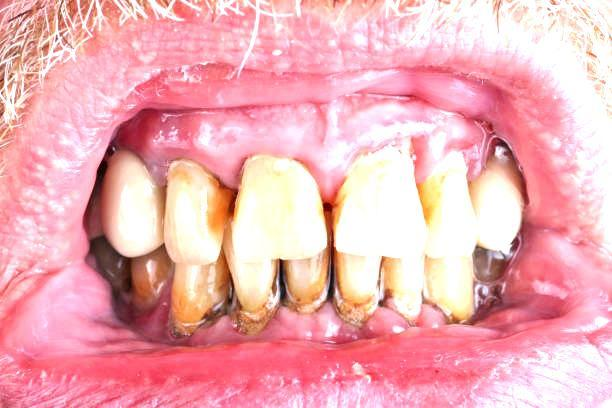Calculus: (150, 140, 227, 243), (336, 211, 397, 327), (222, 226, 289, 327), (172, 240, 238, 324), (281, 229, 337, 314)
